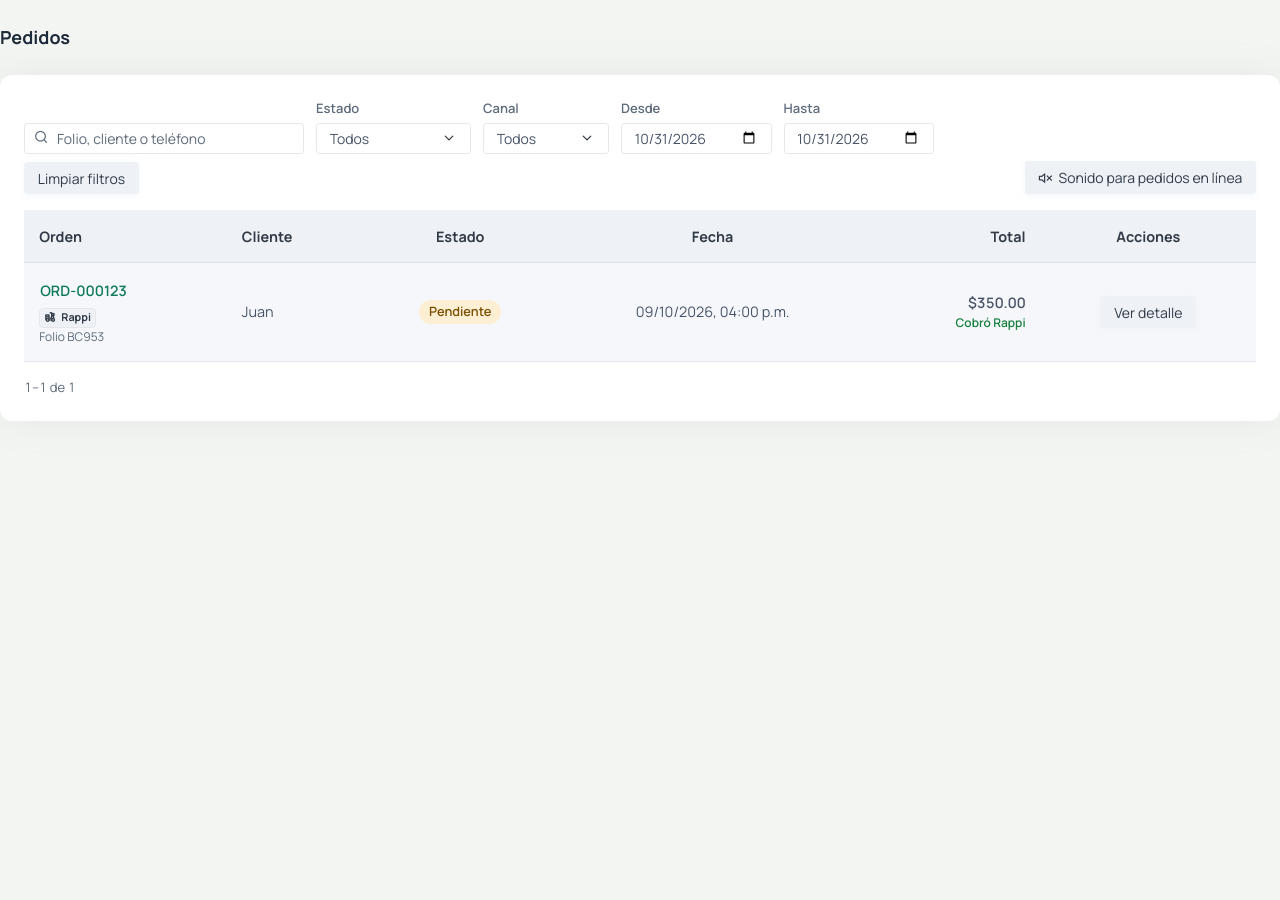
Test: OrdersList › adds the long id of a delivered order of a platform in its detail, and reads the order again
Click the button "ORD-000123": (83, 291) [39,279,128,302]
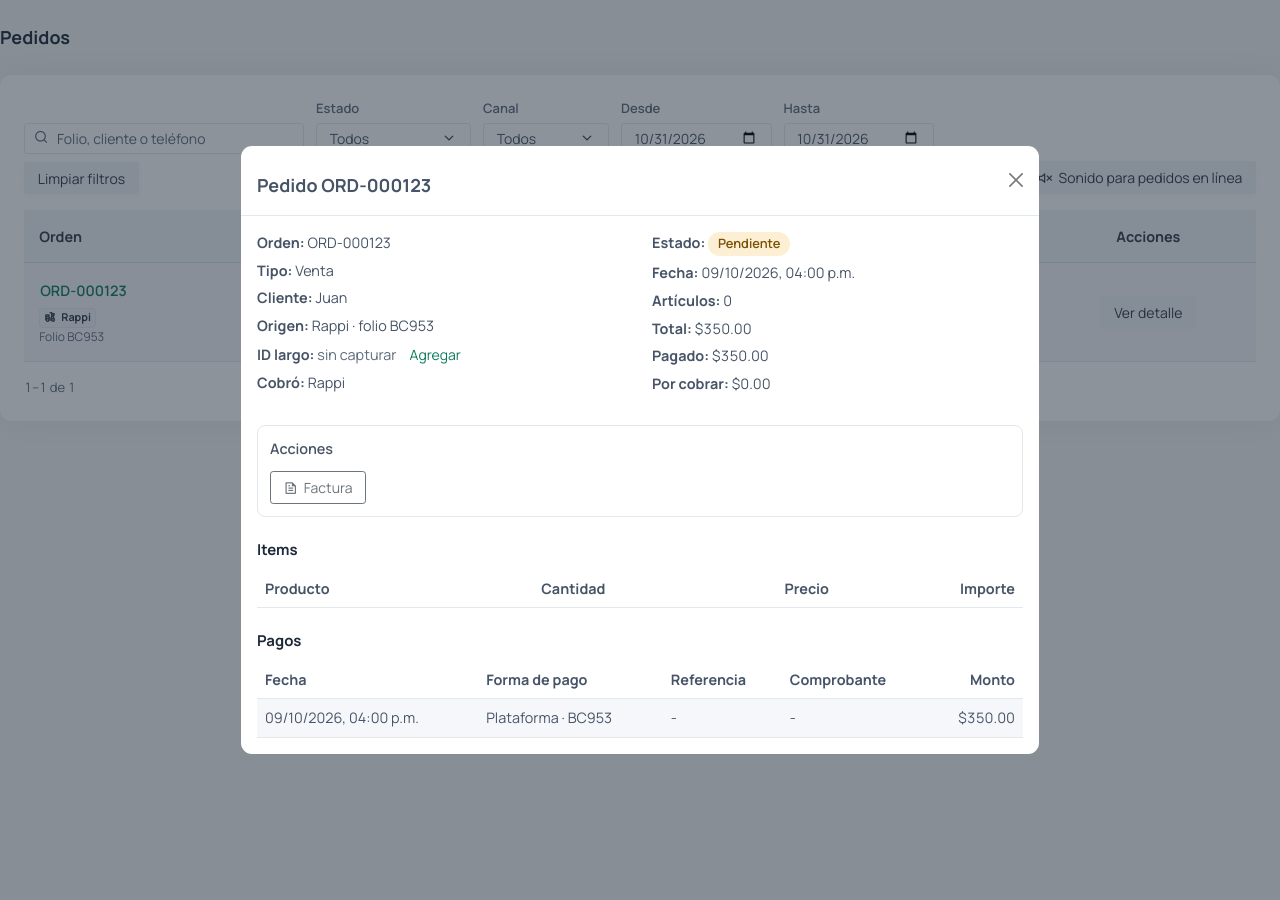
Expected: the dialog "Pedido ORD-000123" shows "ID largo: sin capturar", [240,145,1040,755]
Esc leaves the field, not the order.
Click the button with aria-label "Agregar el ID largo del pedido ORD-000123": (435, 354) [408,343,462,366]
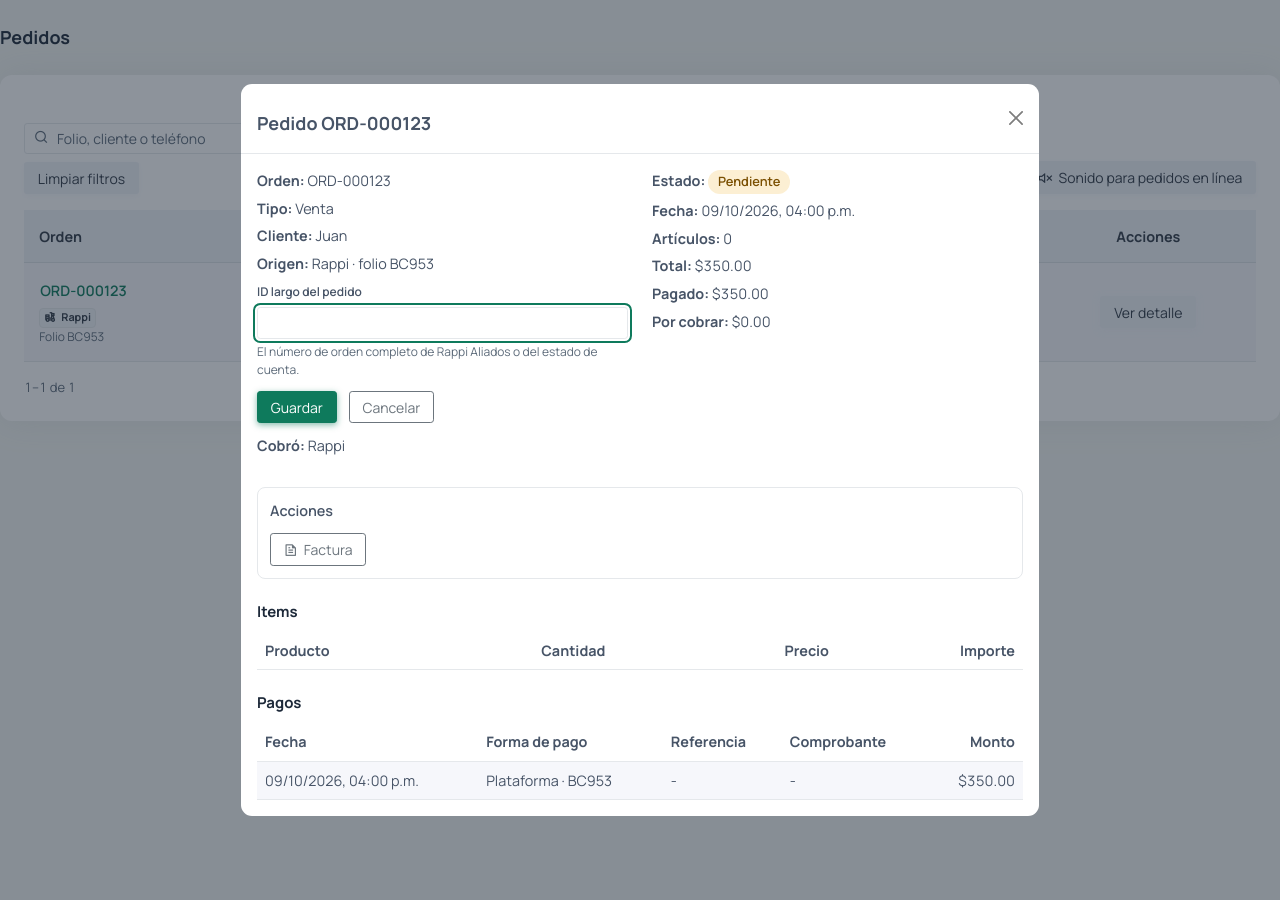
Press Escape
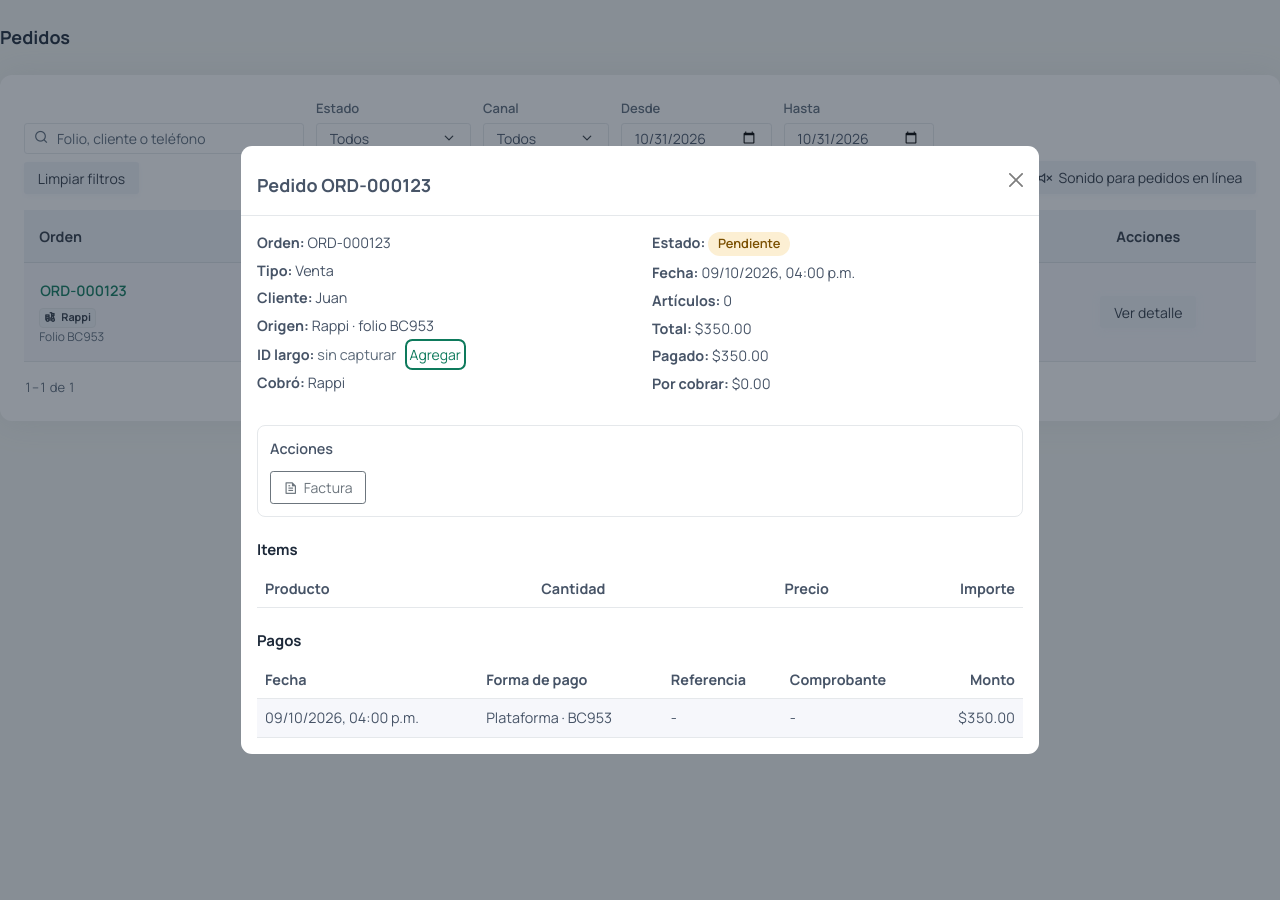
Expected: the dialog "Pedido ORD-000123" is shown, [240,145,1040,755]
Expected: the label labelled "ID largo del pedido" is gone
Click the button with aria-label "Agregar el ID largo del pedido ORD-000123": (435, 354) [408,343,462,366]
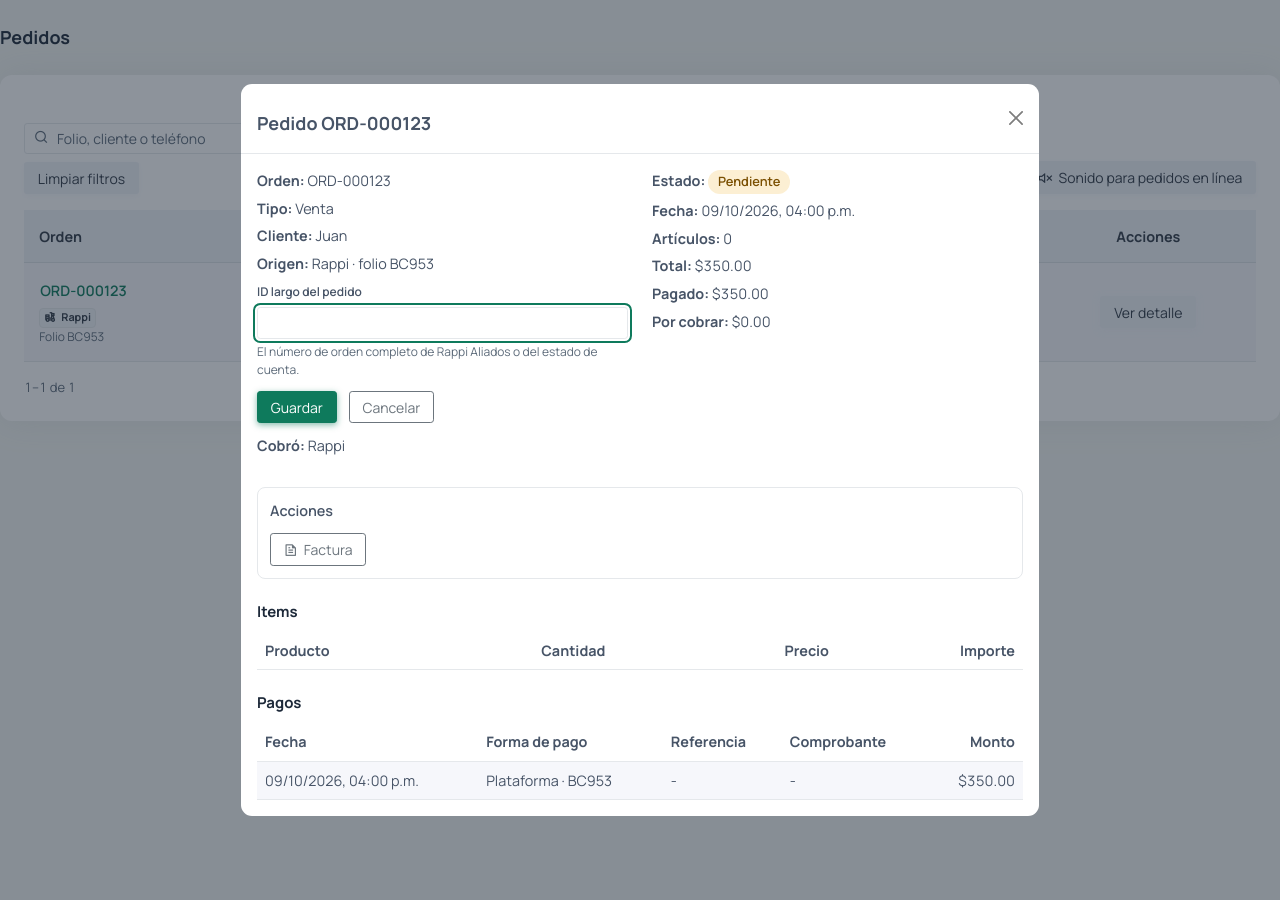
In the field labelled "ID largo del pedido": (442, 323) [257,307,628,339], type "4810373920"
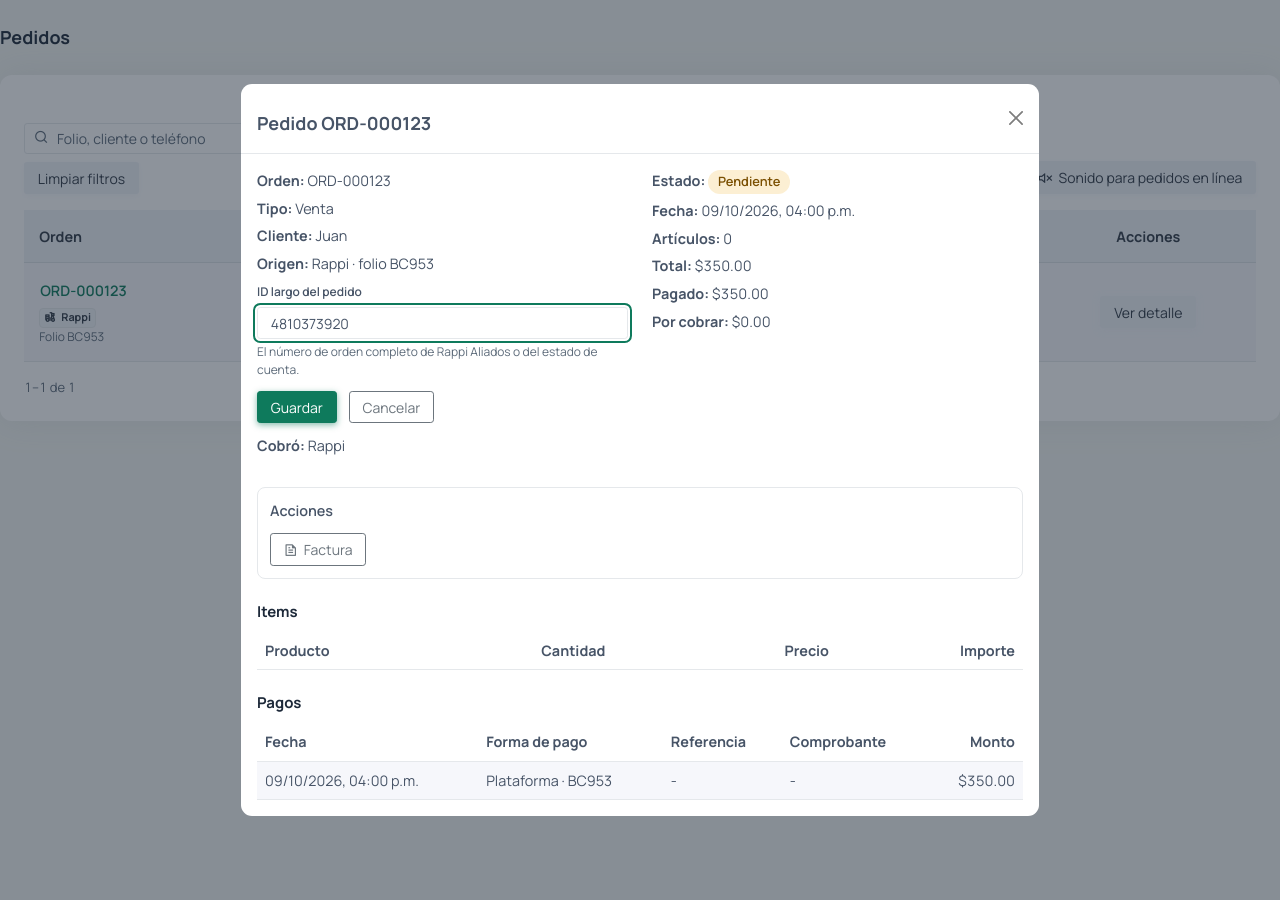
Click the button "Guardar": (297, 407) [257,391,337,423]
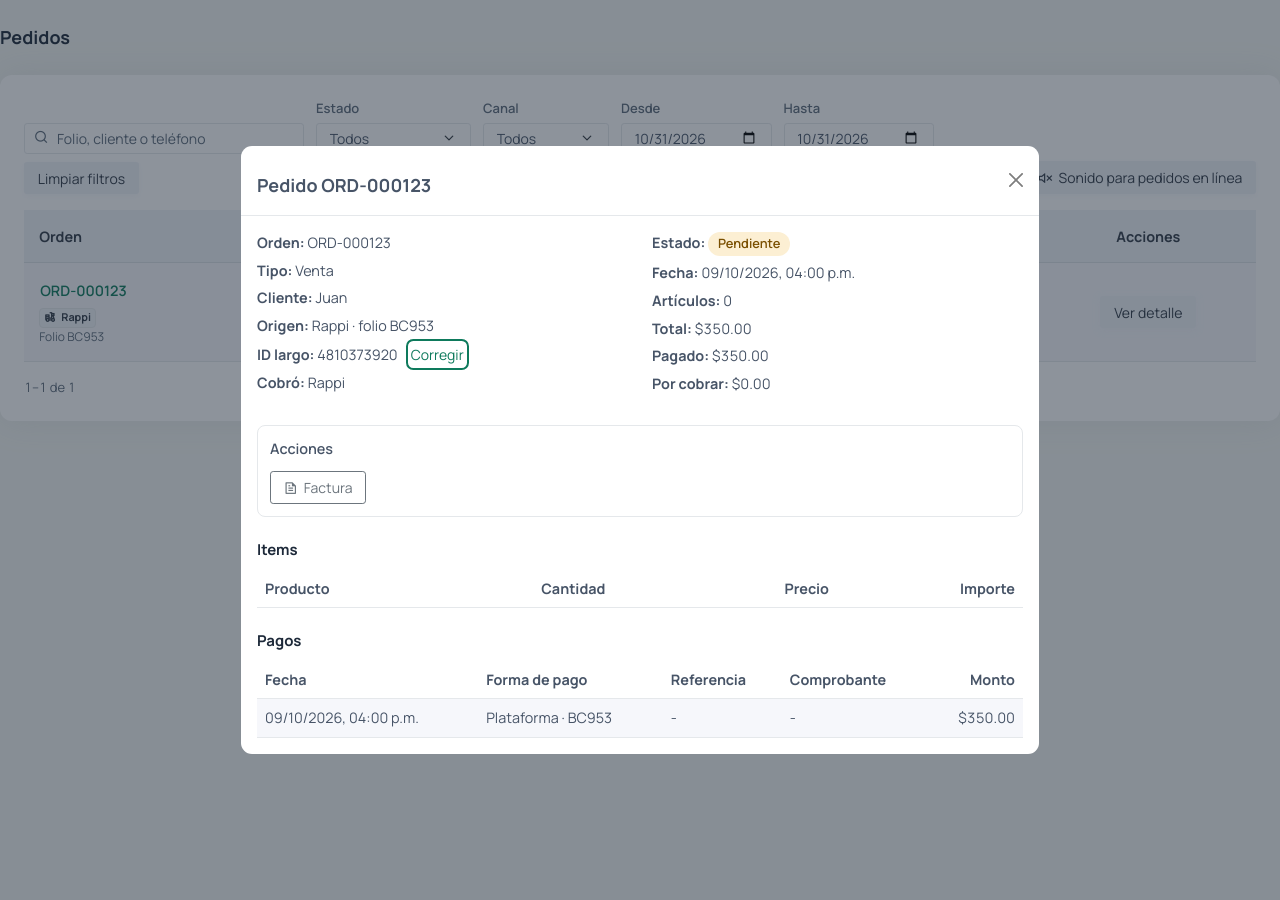
Expected: the dialog "Pedido ORD-000123" shows "ID largo: 4810373920", [240,145,1040,755]
Expected: the button with aria-label "Corregir el ID largo del pedido ORD-000123" is shown, [410,343,465,366]
